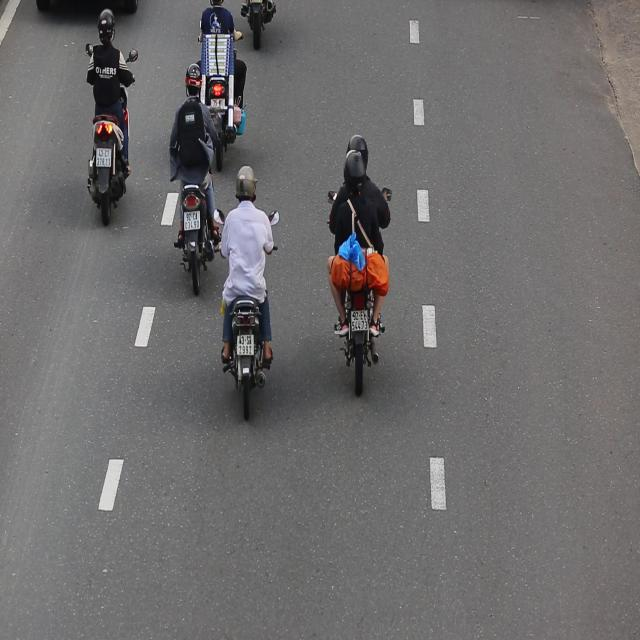motorbike: (325, 128, 395, 400), (216, 162, 282, 426), (166, 60, 222, 295), (84, 4, 142, 228)
